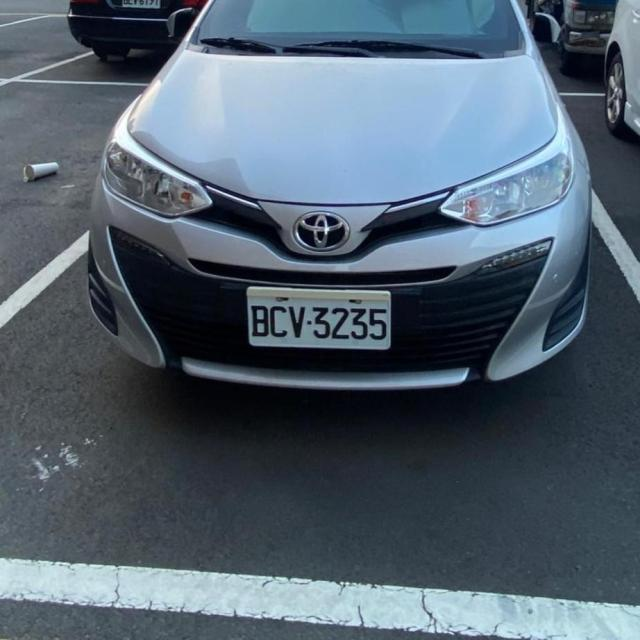W: (246, 286, 391, 350), (121, 0, 161, 9)
